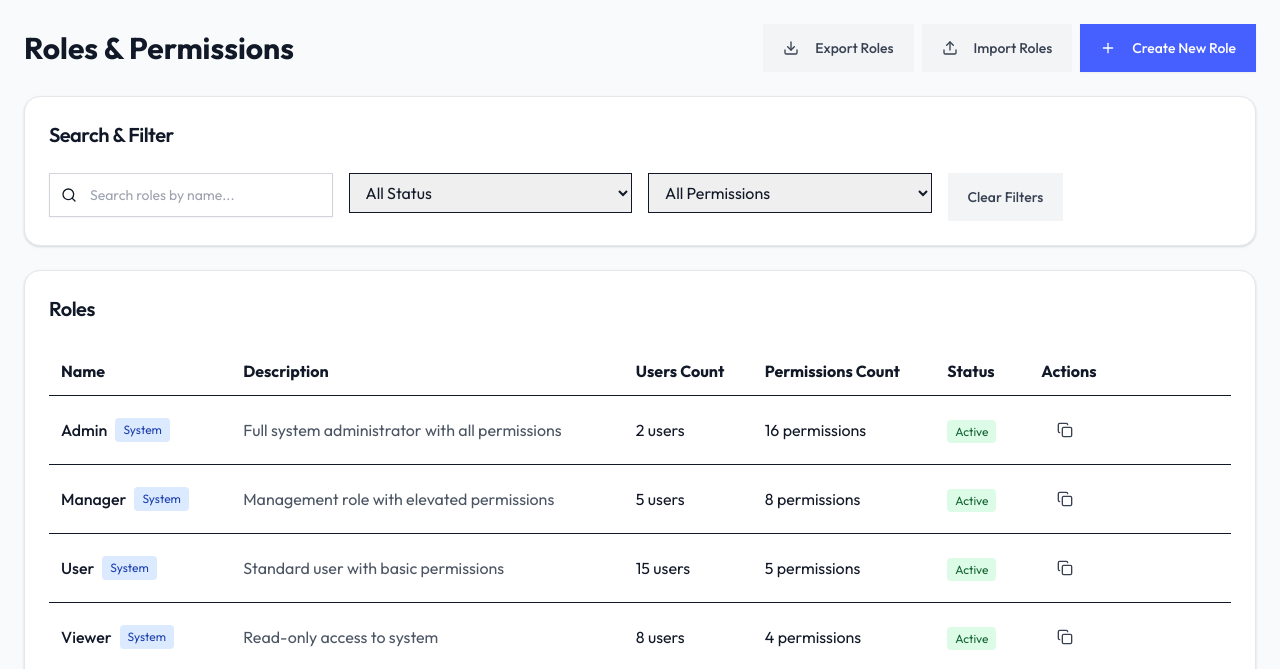
Test: RolesPermissionsPage › Search and Filter Functionality › should filter roles by status
Select "Inactive" in the dropdown with test id "status-filter-dropdown" at (490, 193), box [348,173,632,213]
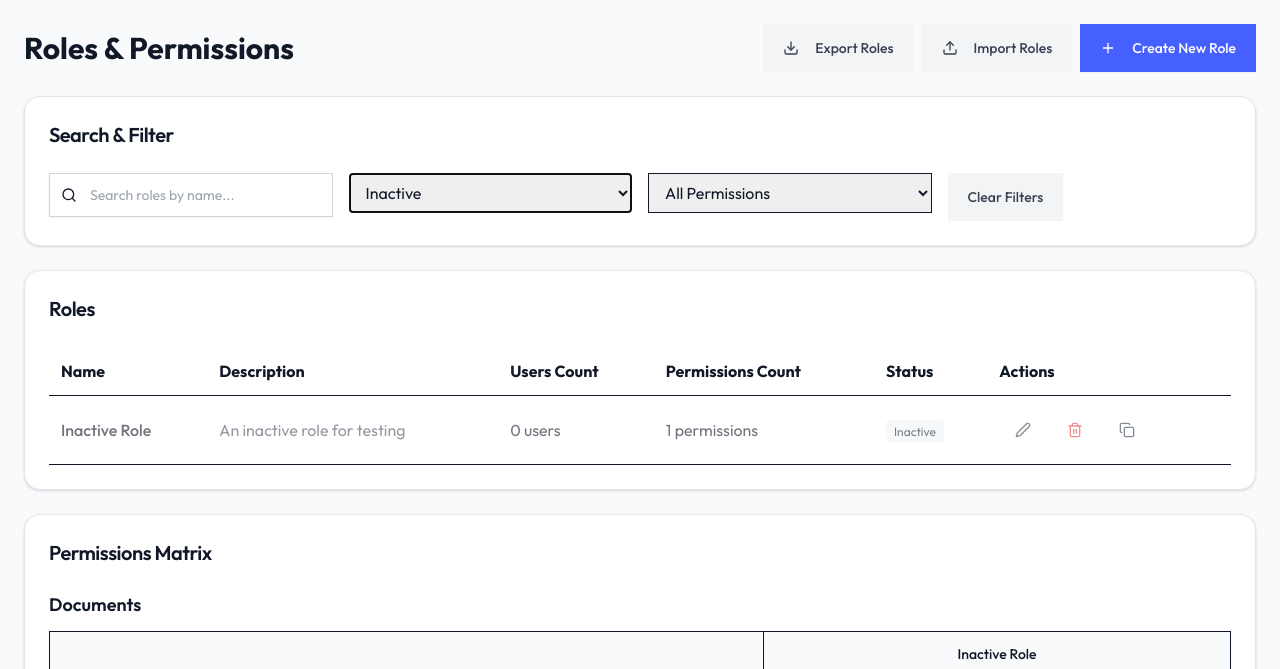
Expected: the row with test id "role-row-inactive_role" is shown, [49,396,1231,464]
Expected: the row with test id "role-row-admin" is gone
